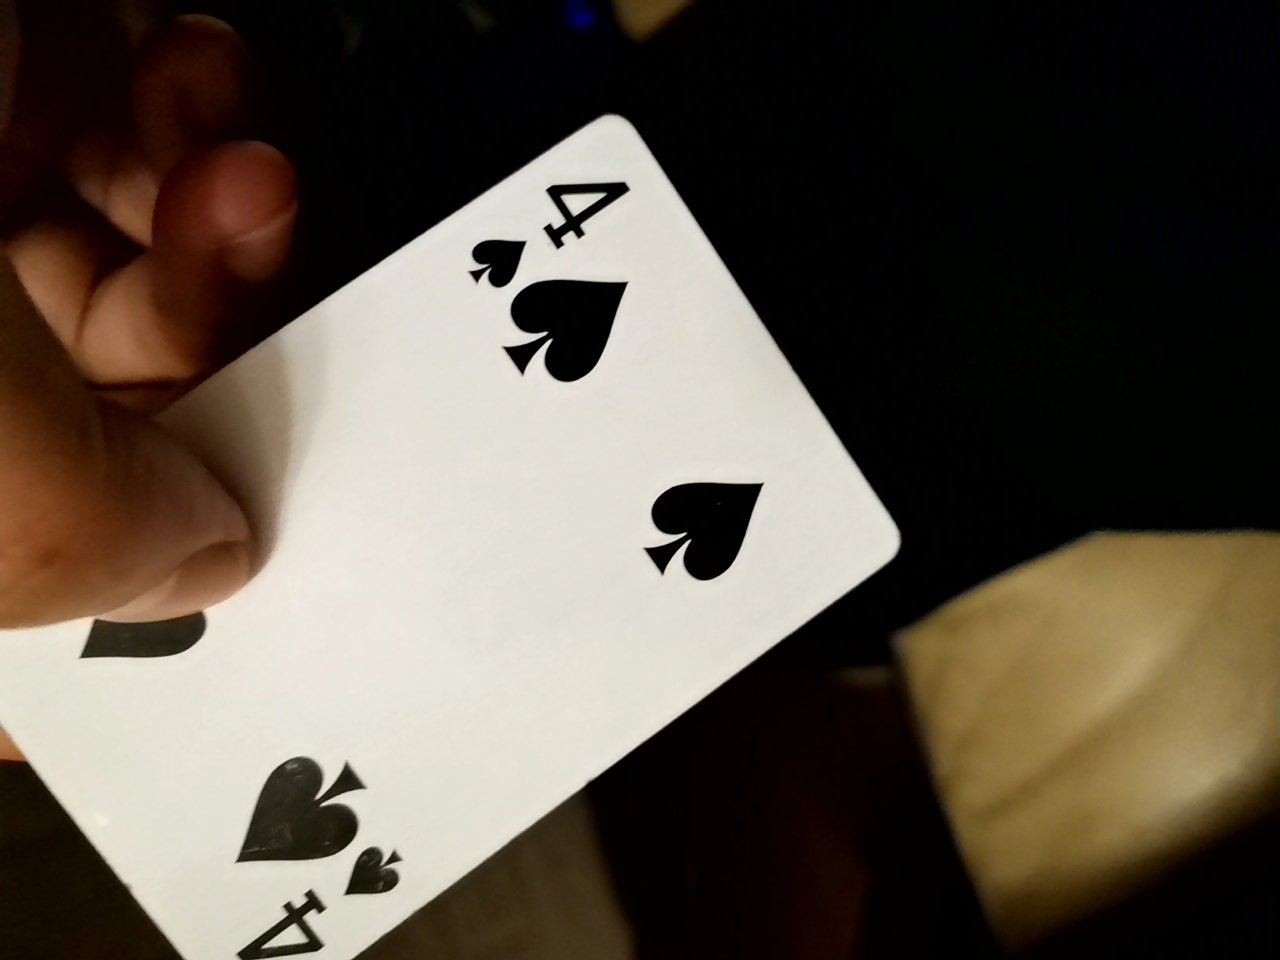ht 4: (2, 110, 928, 955)
